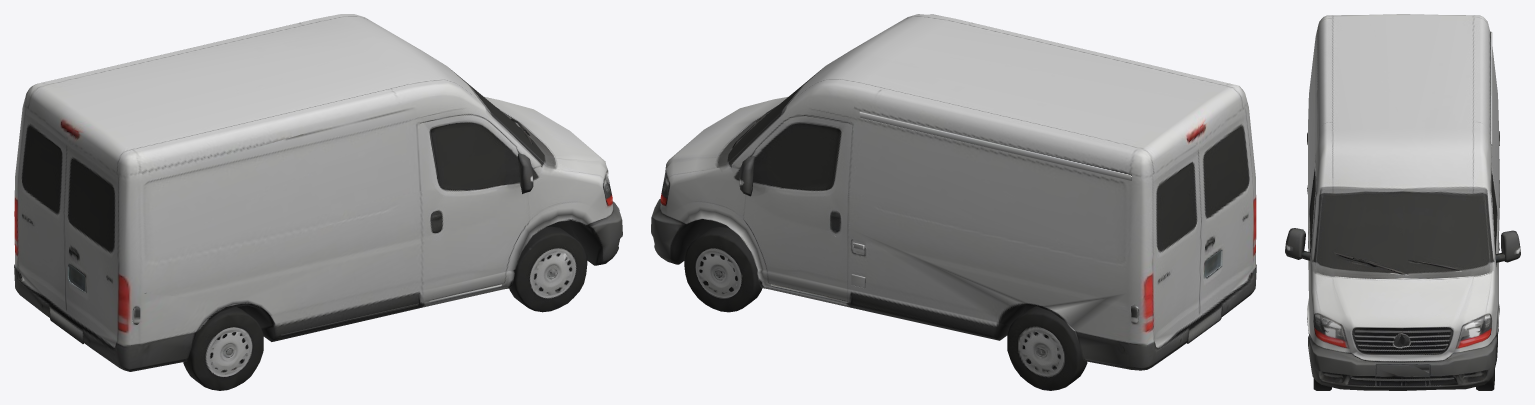
Rendered from van.glb.
3 views of the same model, side by side, from view 1: azimuth 30°, elevation 25°; view 2: azimuth 150°, elevation 25°; view 3: azimuth 270°, elevation 25° (orthographic). The views are drawn at different scales.
Visible parts, largest first — view 1: tripo_node_151954af-4812-47b3-9a5d-9d6a905a1086; view 2: tripo_node_151954af-4812-47b3-9a5d-9d6a905a1086; view 3: tripo_node_151954af-4812-47b3-9a5d-9d6a905a1086.
Part boxes in pixels (x1,y1,x2,y2): tripo_node_151954af-4812-47b3-9a5d-9d6a905a1086: [14, 14, 622, 390]; tripo_node_151954af-4812-47b3-9a5d-9d6a905a1086: [651, 14, 1256, 390]; tripo_node_151954af-4812-47b3-9a5d-9d6a905a1086: [1285, 14, 1520, 390].
Size of the model in its own units: 0.998 by 0.4707 by 0.4824.
1 material, 1 textured.
